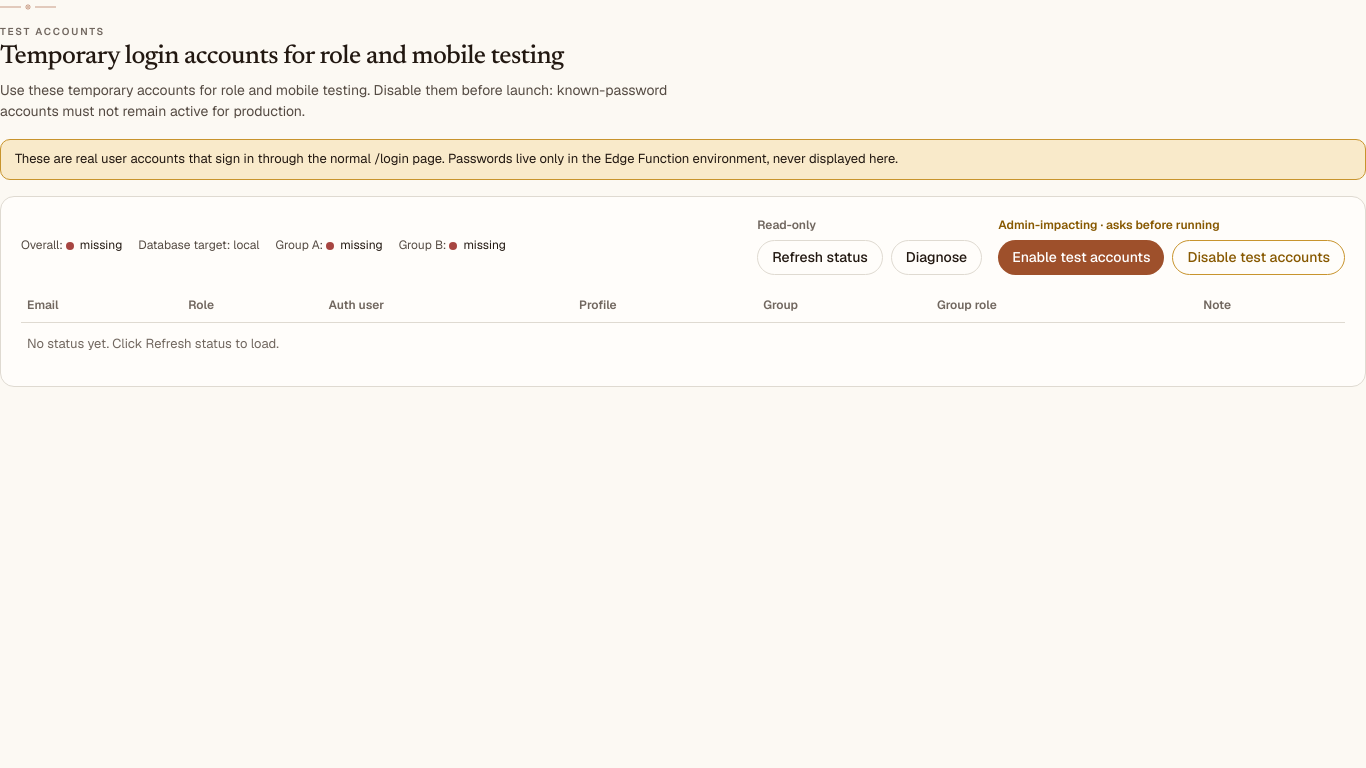
Scenario: TestAccountsPanel — non-blocking confirm (#666) › cancelling never runs the action
Click the button "Enable test accounts". click: (1081, 257)
box: left=998, top=240, right=1164, bottom=275
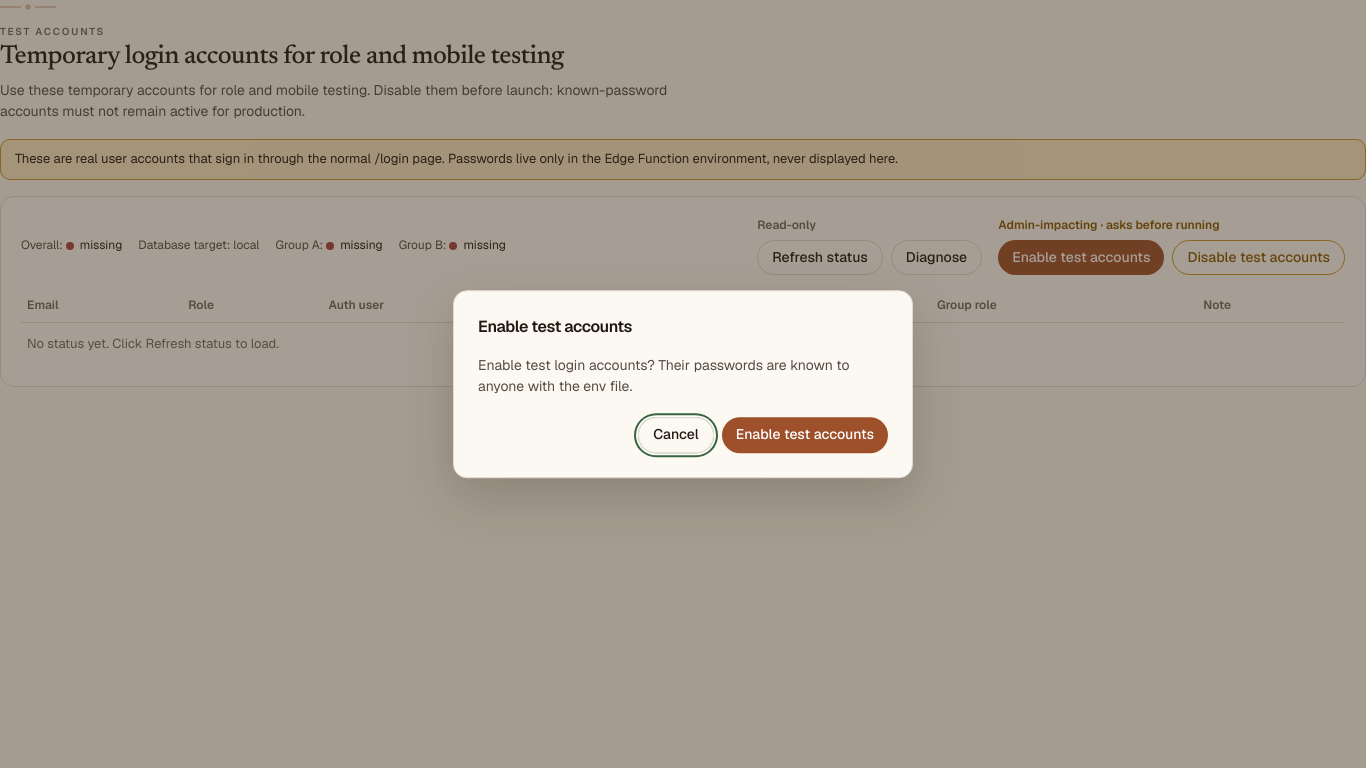
Click the button "Cancel". click: (676, 435)
box: left=638, top=417, right=714, bottom=453
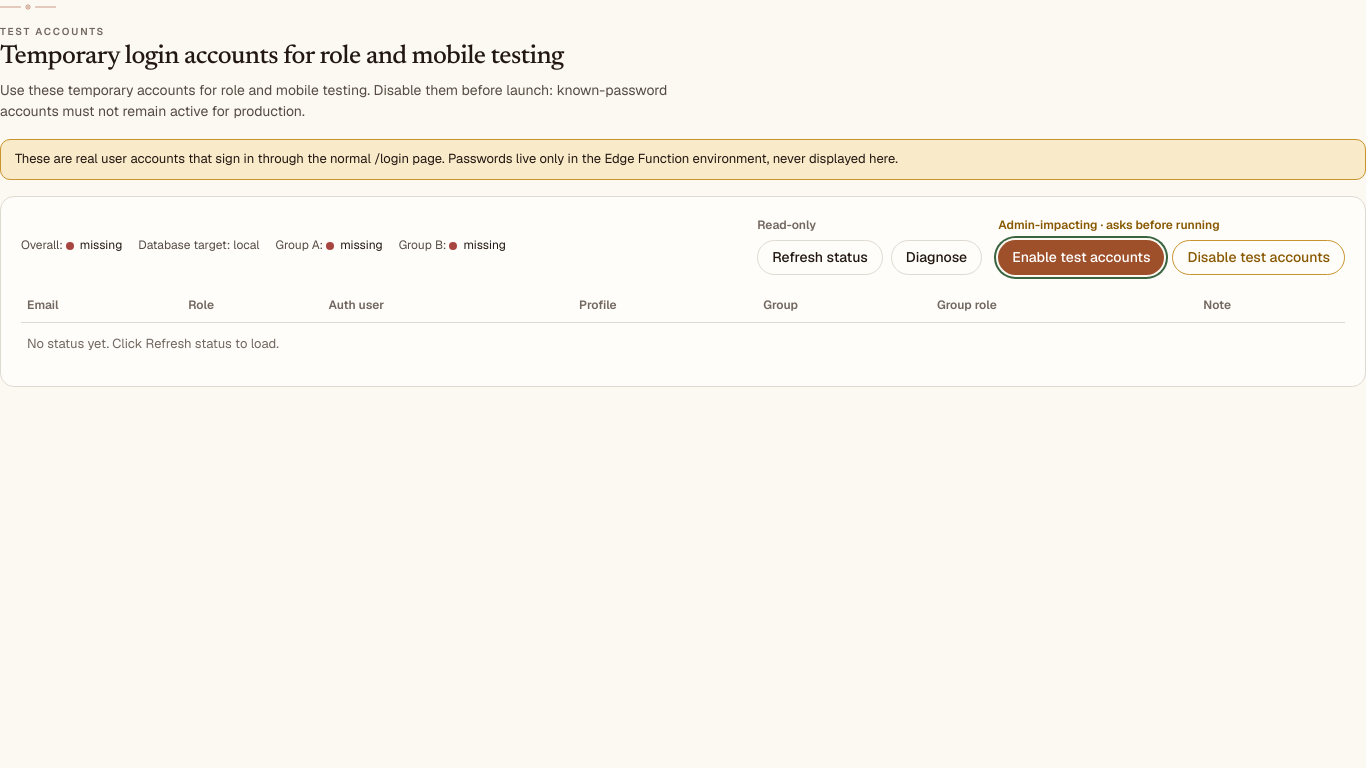
Expected: the dialog is gone
